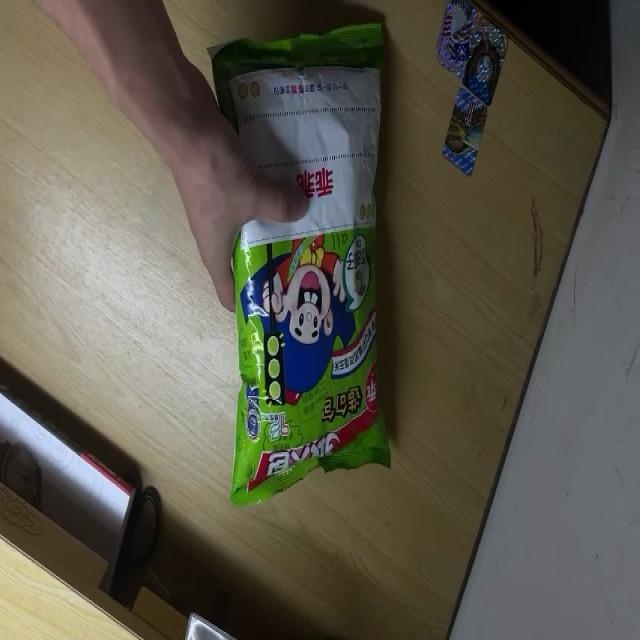Good-Luck: (208, 19, 393, 511)
